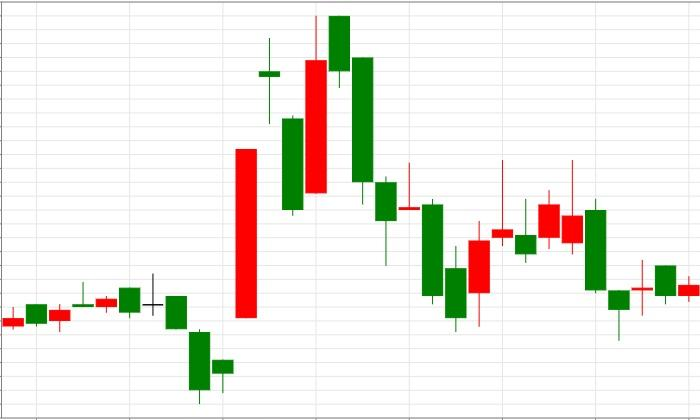shooting_star_fall: (445, 160, 583, 332)
